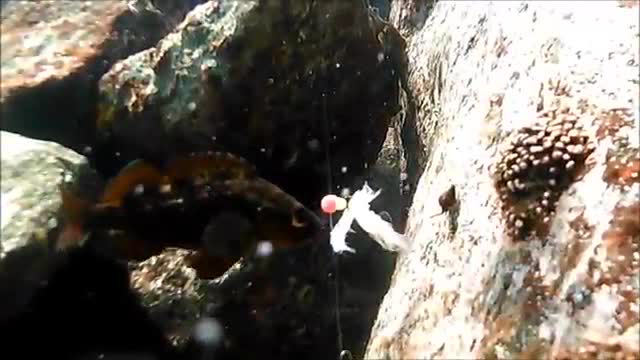mebaru: (48, 148, 339, 278)
